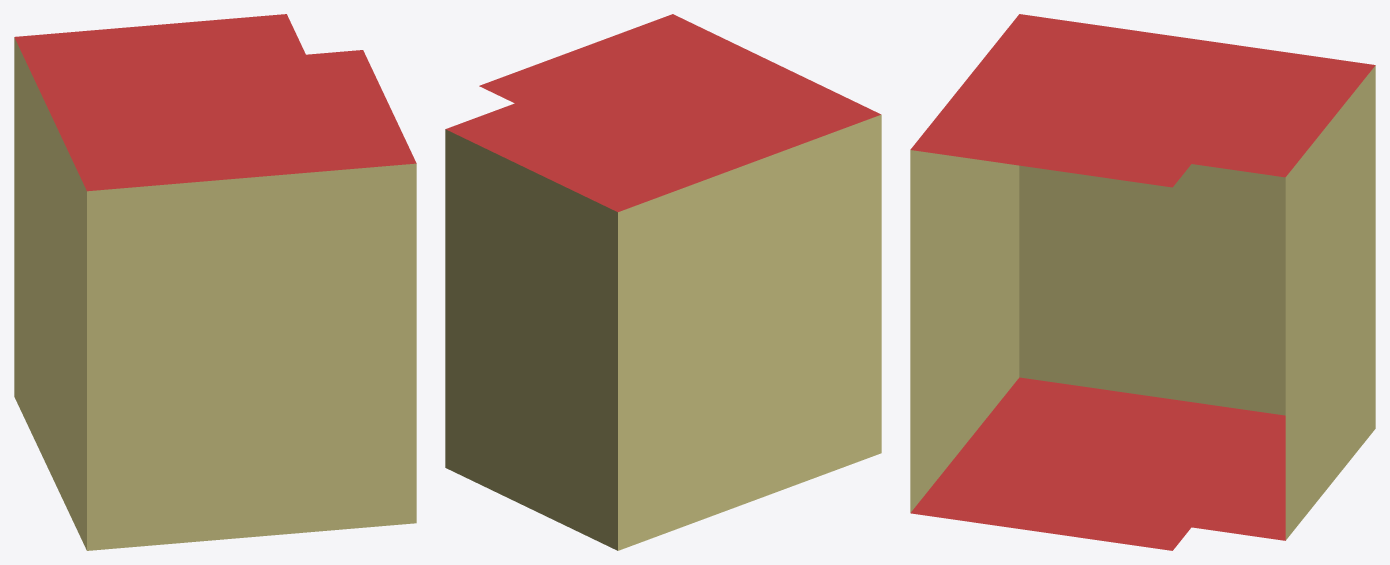
3 renders of one model, left to right at view 1: azimuth 30°, elevation 25°; view 2: azimuth 150°, elevation 25°; view 3: azimuth 270°, elevation 25°, orthographic. The views are drawn at different scales.
Bounding box in the file's own units: 5.34 × 6.06 × 5.22.
